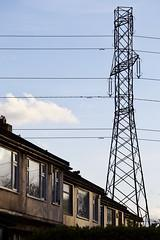power_tower: (100, 1, 158, 230)
